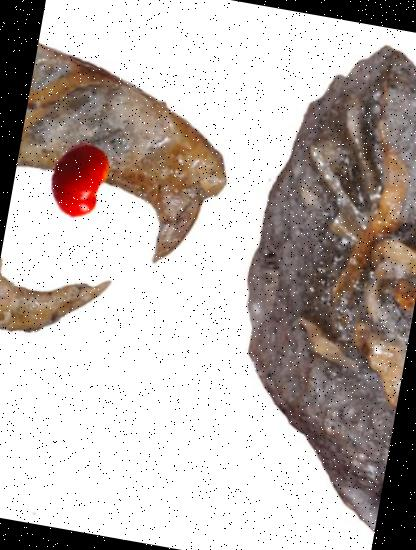Tomato: (34, 135, 124, 224)
